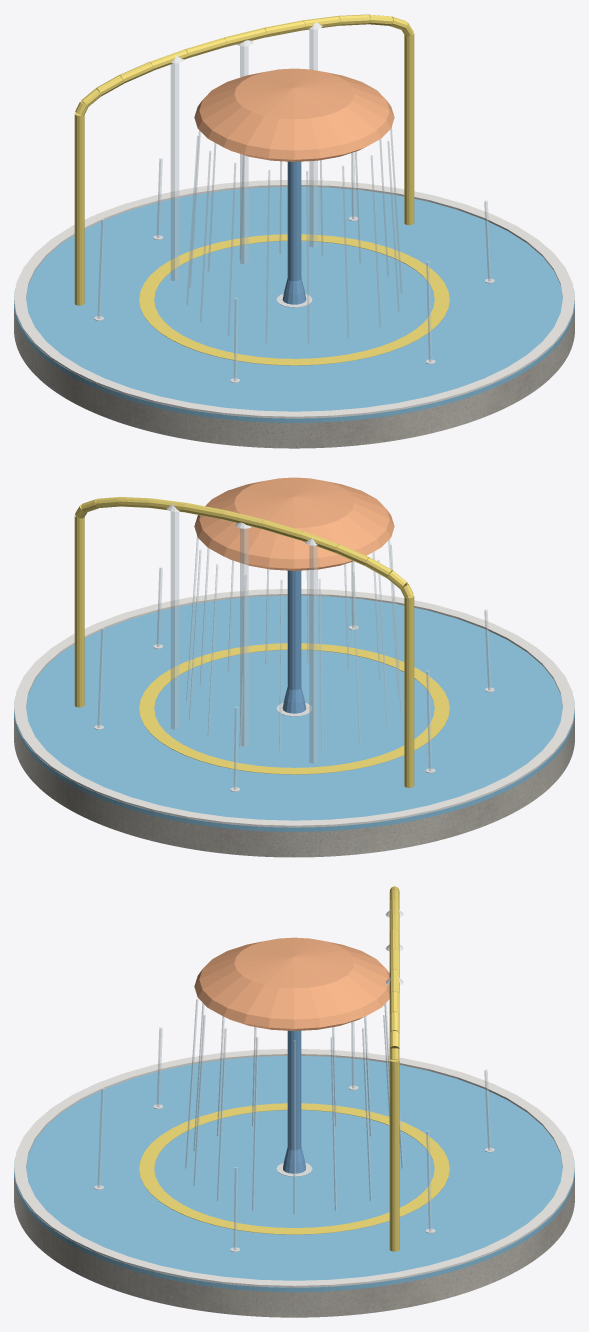
Rendered from splash_pad.glb.
3 views of the same model, one above another, from view 1: azimuth 30°, elevation 25°; view 2: azimuth 150°, elevation 25°; view 3: azimuth 270°, elevation 25° (orthographic).
Parts seen in each view (by area): view 1: splash_pad_splash, splash_pad_concrete, splash_pad_orange_u, splash_pad_yellowp, splash_pad_spray, splash_pad_coping, splash_pad_blue_p, splash_pad_chrome; view 2: splash_pad_splash, splash_pad_concrete, splash_pad_yellowp, splash_pad_spray, splash_pad_orange_u, splash_pad_coping, splash_pad_blue_p, splash_pad_chrome; view 3: splash_pad_splash, splash_pad_concrete, splash_pad_orange_u, splash_pad_coping, splash_pad_yellowp, splash_pad_spray, splash_pad_blue_p, splash_pad_chrome.
Part boxes in pixels (x1,y1,x2,y2): splash_pad_splash: [14, 186, 574, 422]; splash_pad_concrete: [14, 309, 574, 448]; splash_pad_orange_u: [194, 68, 394, 161]; splash_pad_yellowp: [74, 14, 449, 365]; splash_pad_spray: [97, 29, 491, 380]; splash_pad_coping: [14, 180, 574, 418]; splash_pad_blue_p: [282, 161, 306, 304]; splash_pad_chrome: [94, 21, 494, 382]; splash_pad_splash: [14, 595, 574, 831]; splash_pad_concrete: [14, 718, 574, 857]; splash_pad_yellowp: [74, 497, 449, 787]; splash_pad_spray: [97, 511, 491, 789]; splash_pad_orange_u: [194, 477, 394, 570]; splash_pad_coping: [14, 589, 574, 827]; splash_pad_blue_p: [282, 570, 306, 713]; splash_pad_chrome: [94, 503, 494, 791]; splash_pad_splash: [14, 1056, 574, 1292]; splash_pad_concrete: [14, 1178, 574, 1317]; splash_pad_orange_u: [194, 937, 389, 1030]; splash_pad_coping: [14, 1049, 574, 1287]; splash_pad_yellowp: [139, 886, 449, 1251]; splash_pad_spray: [97, 999, 491, 1249]; splash_pad_blue_p: [283, 1030, 305, 1173]; splash_pad_chrome: [94, 908, 494, 1251].
Bounding box in the file's own units: 5.6 × 2.87 × 5.6.
Materials: 8 (1 with a texture image).
